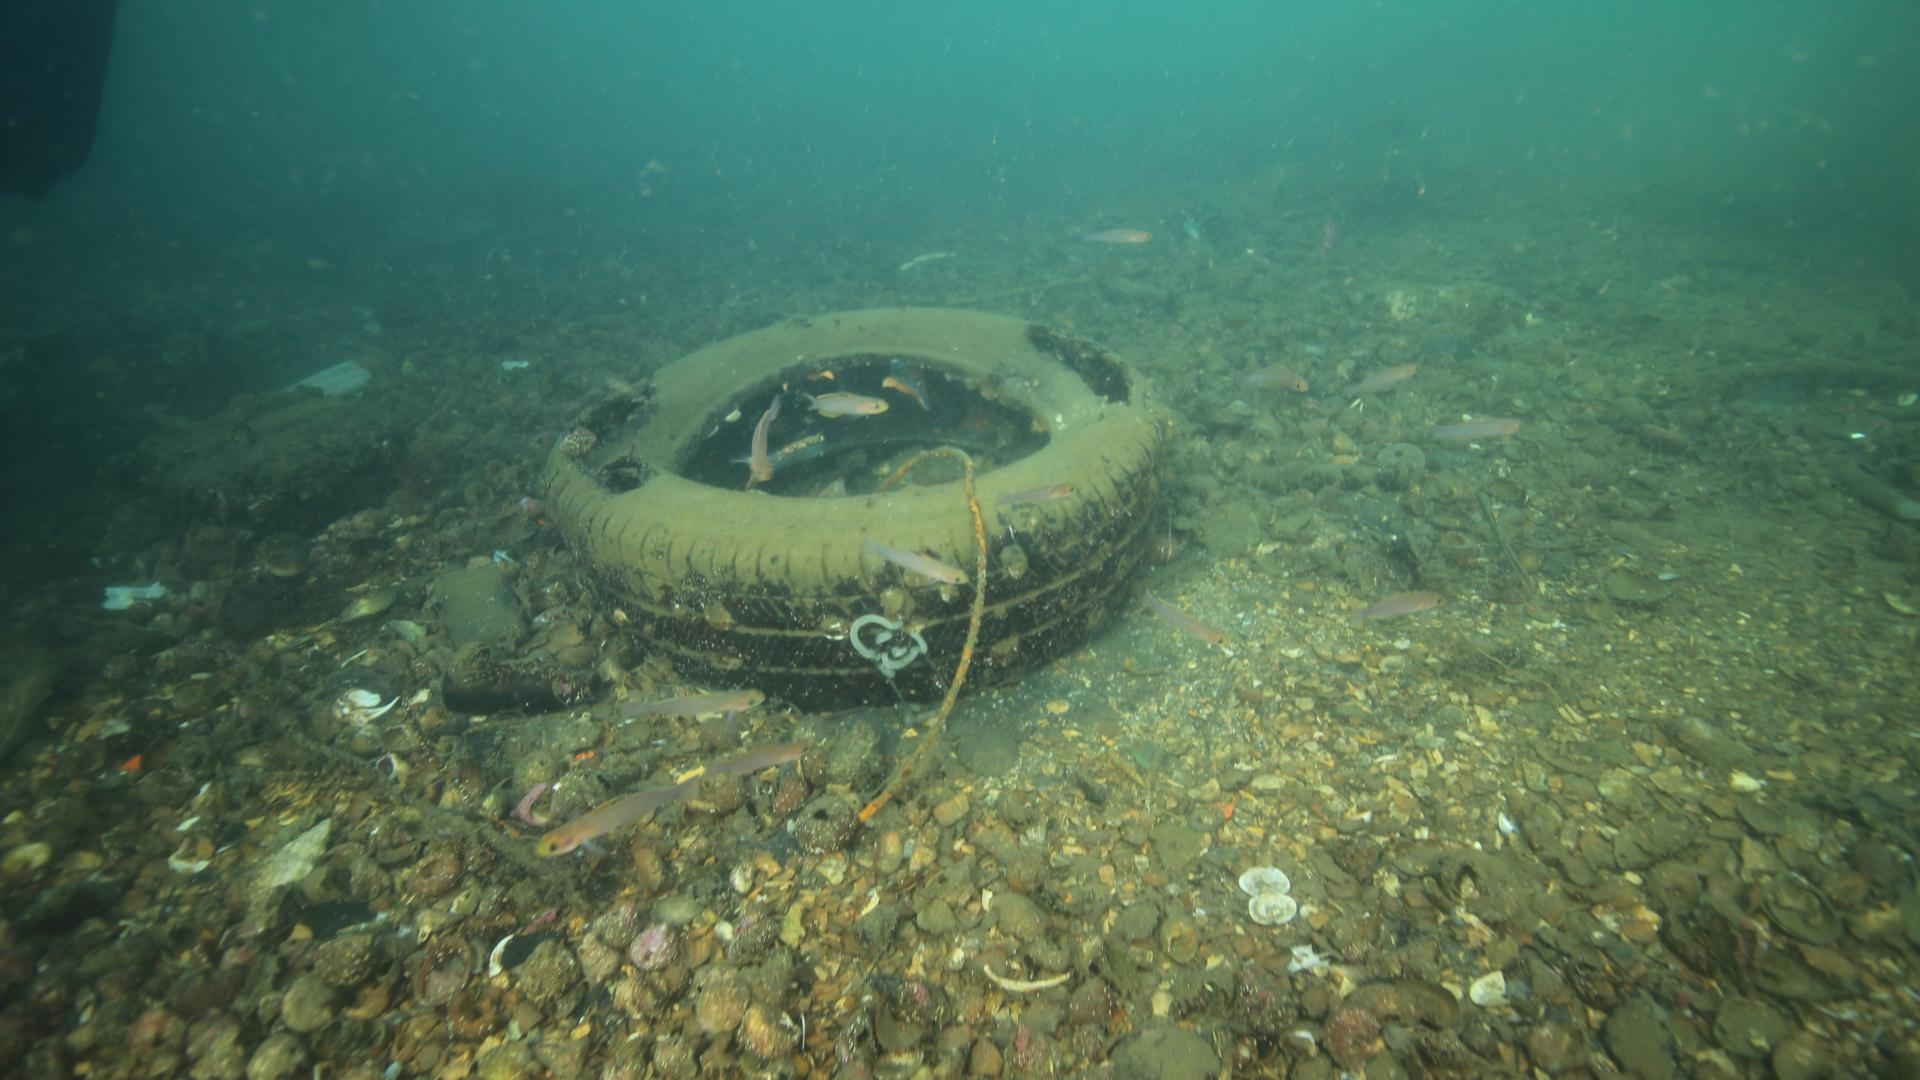tire: (537, 305, 1166, 708)
